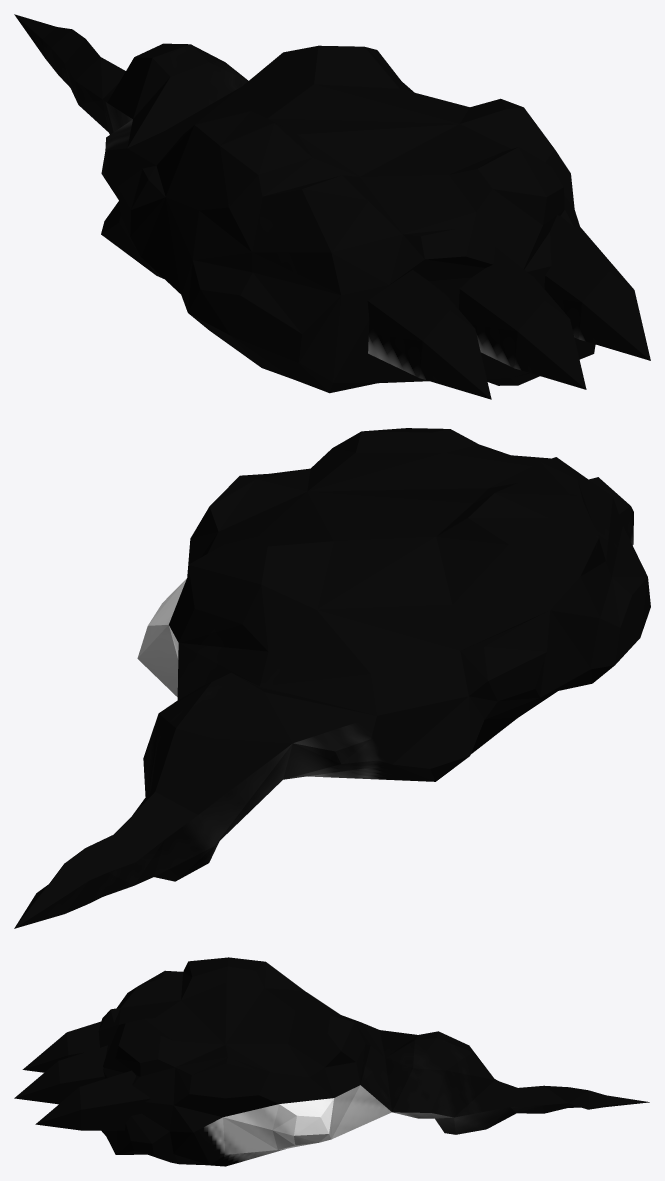
The model's file is 0507_zhuazi.glb.
The picture shows the model from 3 angles, top to bottom: view 1: azimuth 30°, elevation 25°; view 2: azimuth 150°, elevation 25°; view 3: azimuth 270°, elevation 25°; orthographic projection. The views are drawn at different scales.
Size of the model in its own units: 0.8715 by 0.5197 by 2.2.
1 material, 1 textured.
